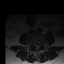CCS_stenosis: (36, 43, 38, 50)
LFS_stenosis: (39, 43, 41, 47)
LLS_severe_stenosis: (38, 44, 39, 49)
RFS_normal: (33, 42, 34, 47)
RLS_normal: (34, 43, 36, 49)
